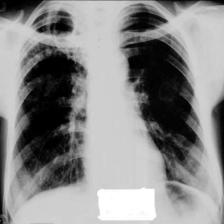tuberculosis: (9, 1, 216, 221)
